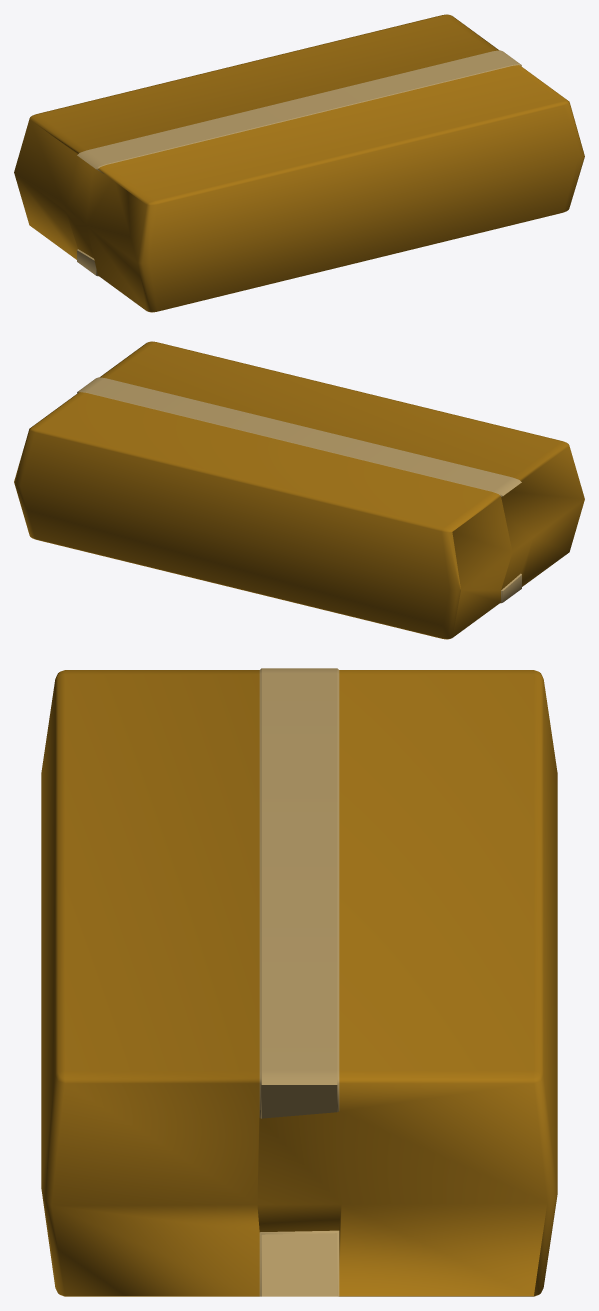
File: Box_Model_crushed(2x1x1).fbx
The picture shows the model from 3 angles, top to bottom: view 1: azimuth 30°, elevation 25°; view 2: azimuth 150°, elevation 25°; view 3: azimuth 270°, elevation 25°; orthographic projection. The views are drawn at different scales.
Visible parts, largest first — view 1: 2x1x1_crushed; view 2: 2x1x1_crushed; view 3: 2x1x1_crushed.
Boxes of the visible parts, box(x1,y1,x2,y2) form: 2x1x1_crushed: box(14, 14, 584, 312); 2x1x1_crushed: box(14, 341, 584, 639); 2x1x1_crushed: box(41, 668, 557, 1296).
Size of the model in its own units: 21.14 by 5.02 by 10.57.
